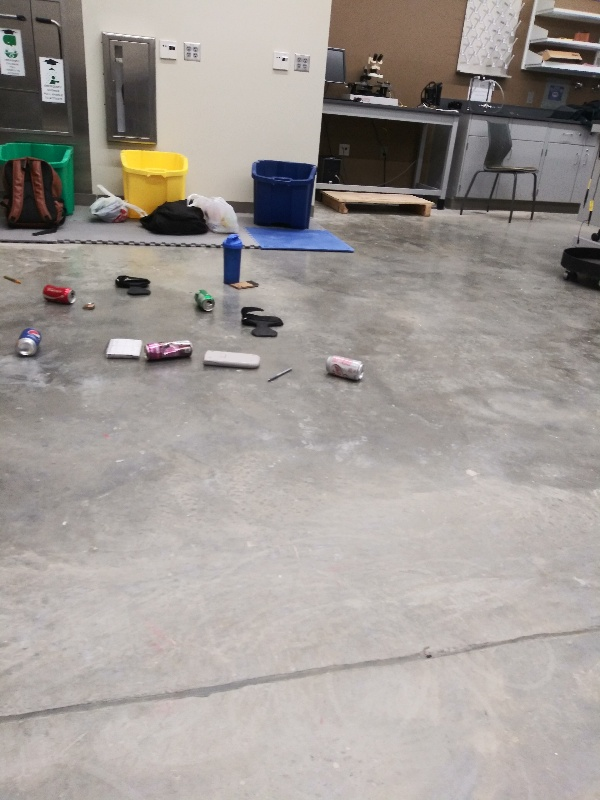can: (142, 336, 198, 363), (320, 352, 368, 383), (14, 325, 47, 359), (42, 283, 81, 302), (192, 287, 218, 312)
